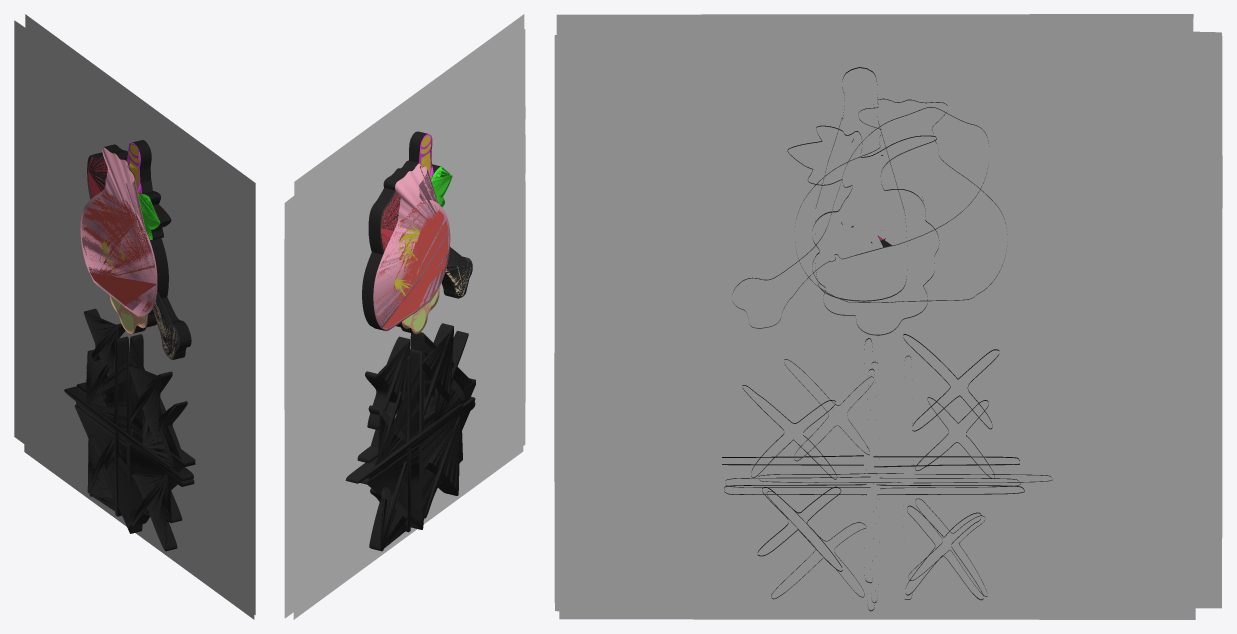
Rendered from explaincharts.fbx.
The picture shows the model from 3 angles, left to right: view 1: azimuth 30°, elevation 25°; view 2: azimuth 150°, elevation 25°; view 3: azimuth 270°, elevation 25°; orthographic projection. The views are drawn at different scales.
Visible parts, largest first — view 1: explainchartmoney, explainchartchicken, explainchartgrape, explainchartbottle; view 2: explainchartmoney, explainchartchicken, explainchartgrape, explainchartbottle; view 3: explainchartbottle, explainchartgrape, explainchartmoney, explainchartchicken.
Boxes of the visible parts, left/top/right/bottom form: explainchartmoney: left=14, top=20, right=243, bottom=604; explainchartchicken: left=26, top=152, right=255, bottom=614; explainchartgrape: left=24, top=191, right=254, bottom=619; explainchartbottle: left=25, top=14, right=255, bottom=523; explainchartmoney: left=284, top=37, right=513, bottom=618; explainchartchicken: left=296, top=29, right=525, bottom=612; explainchartgrape: left=293, top=164, right=523, bottom=619; explainchartbottle: left=294, top=14, right=524, bottom=487; explainchartbottle: left=556, top=14, right=1193, bottom=592; explainchartgrape: left=559, top=42, right=1195, bottom=619; explainchartmoney: left=758, top=31, right=1222, bottom=608; explainchartchicken: left=554, top=35, right=1020, bottom=611.
Size of the model in its own units: 0.041 by 1.28 by 1.28.
